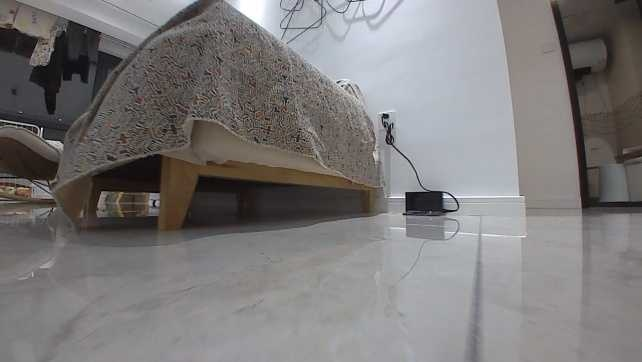bed: (45, 0, 382, 231)
charger: (398, 188, 448, 217)
toilet: (581, 133, 631, 200)
wire: (376, 109, 466, 212)
